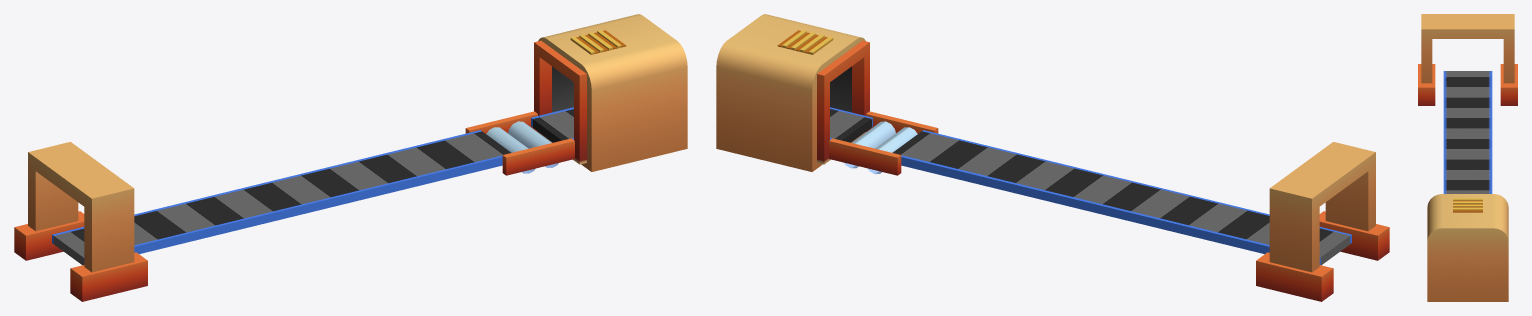
File: belt (1).fbx
The picture shows the model from 3 angles, left to right: view 1: azimuth 30°, elevation 25°; view 2: azimuth 150°, elevation 25°; view 3: azimuth 270°, elevation 25°; orthographic projection. The views are drawn at different scales.
Parts seen in each view (by area): view 1: Cube.024, Cube.025, Cube.029, Cube.027, Cube.031, Cube.030, Cylinder.002, Cube.026, Cylinder.001; view 2: Cube.024, Cube.025, Cube.029, Cube.027, Cube.031, Cube.030, Cylinder.002, Cube.026, Cylinder.001; view 3: Cube.025, Cube.024, Cube.029, Cube.026, Cube.035.
Part boxes in pixels (x1,y1,x2,y2): Cube.024: (52,130,511,265); Cube.025: (538,14,687,171); Cube.029: (14,142,147,301); Cube.027: (534,40,586,164); Cube.031: (465,111,574,175); Cube.030: (531,107,573,142); Cylinder.002: (508,121,558,167); Cube.026: (570,30,621,54); Cylinder.001: (486,127,535,173); Cube.024: (892,130,1351,265); Cube.025: (716,14,865,171); Cube.029: (1256,142,1389,301); Cube.027: (817,40,869,164); Cube.031: (829,111,938,175); Cube.030: (830,107,872,142); Cylinder.002: (844,121,895,168); Cube.026: (782,30,833,54); Cylinder.001: (867,127,917,174); Cube.025: (1427,194,1508,301); Cube.024: (1443,71,1492,193); Cube.029: (1418,14,1517,105); Cube.026: (1453,198,1482,210); Cube.035: (1453,200,1482,212).
Bounding box in the file's own units: 297 × 47.61 × 57.05.
Materials: 2 (2 with a texture image).
